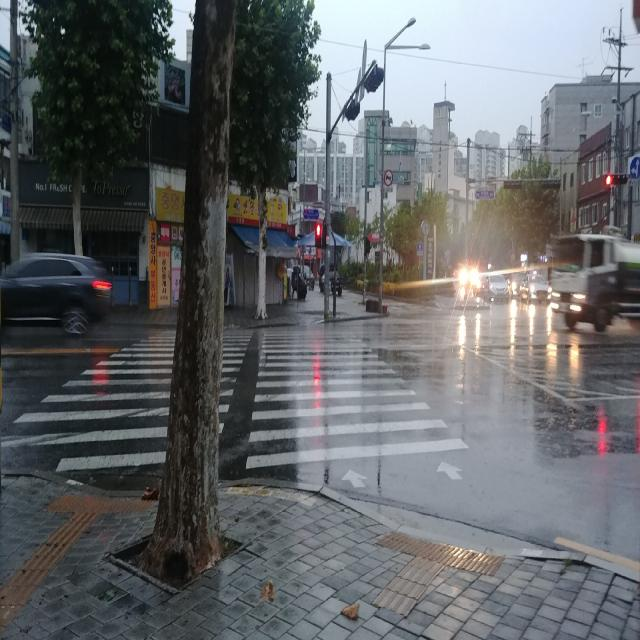빨간불: (314, 224, 322, 249)
횡단보도: (0, 322, 471, 492)
